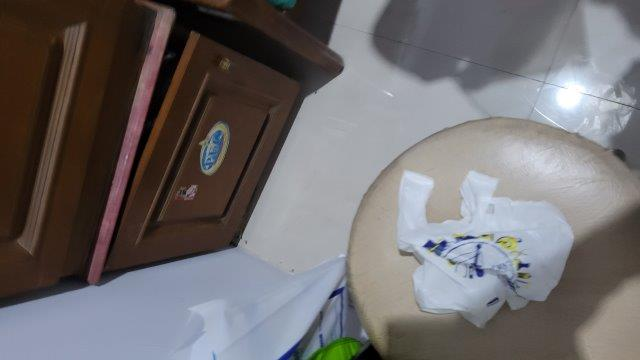plastik: (400, 170, 576, 328)
